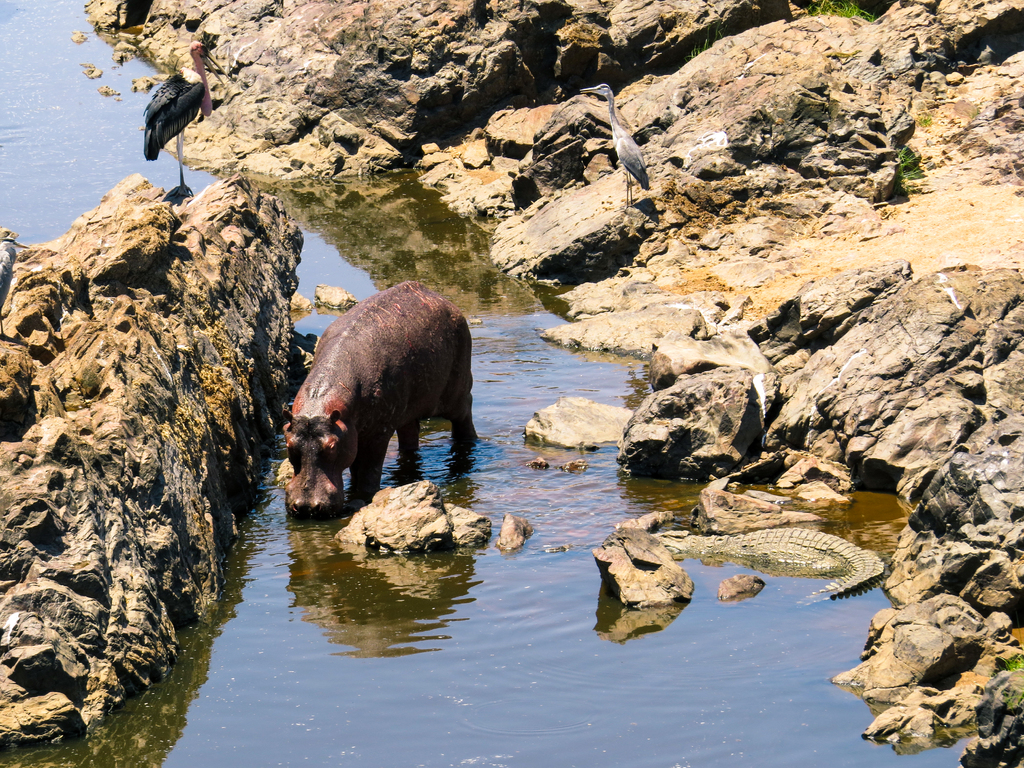Animal: (281, 273, 478, 517)
